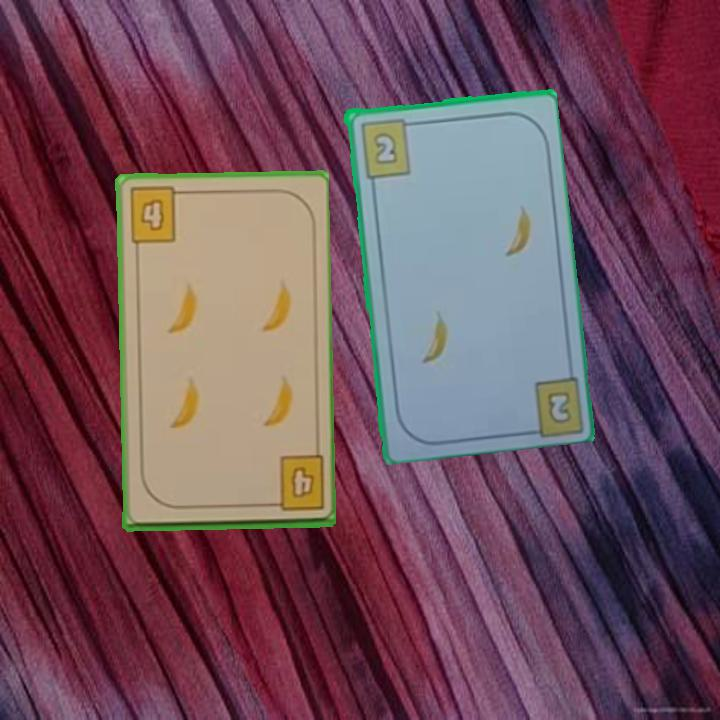2b: (356, 115, 418, 180), (543, 387, 575, 427)
4b: (262, 453, 327, 514), (126, 184, 188, 246)
